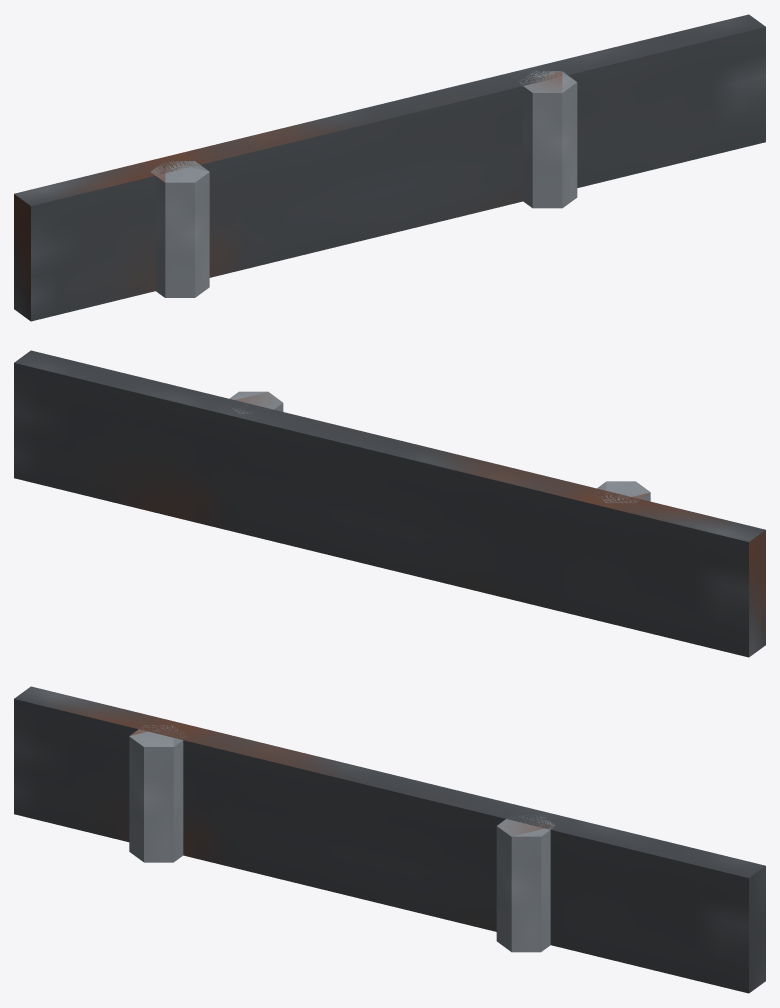
File: SM_Debris_MetalBand.fbx
The picture shows the model from 3 angles, top to bottom: view 1: azimuth 30°, elevation 25°; view 2: azimuth 150°, elevation 25°; view 3: azimuth 330°, elevation 25°; orthographic projection.
Visible parts, largest first — view 1: SM_Debris_MetalBand; view 2: SM_Debris_MetalBand; view 3: SM_Debris_MetalBand.
Part boxes in pixels (bbox=[...]): SM_Debris_MetalBand: bbox=[14, 14, 765, 321]; SM_Debris_MetalBand: bbox=[14, 350, 765, 657]; SM_Debris_MetalBand: bbox=[14, 686, 765, 993].
Bounding box in the file's own units: 2 × 0.3 × 0.16.
Materials: 1 (1 with a texture image).
